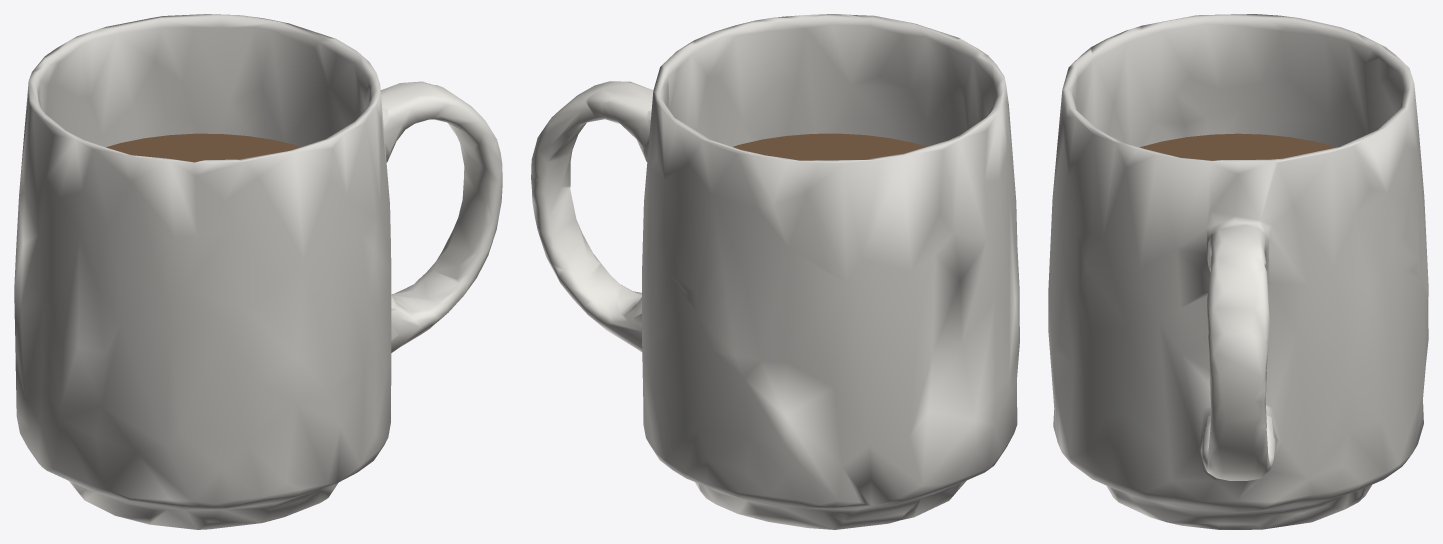
File: mug.glb
3 renders of one model, left to right at view 1: azimuth 30°, elevation 25°; view 2: azimuth 150°, elevation 25°; view 3: azimuth 270°, elevation 25°, orthographic.
Visible parts, largest first — view 1: body, handle, coffee; view 2: body, handle, coffee; view 3: body, handle, coffee.
Boxes of the visible parts, left/top/right/bottom form: body: left=14, top=14, right=398, bottom=529; handle: left=380, top=81, right=502, bottom=352; coffee: left=106, top=133, right=300, bottom=162; body: left=633, top=14, right=1019, bottom=529; handle: left=531, top=81, right=653, bottom=352; coffee: left=733, top=133, right=926, bottom=160; body: left=1048, top=14, right=1428, bottom=529; handle: left=1201, top=224, right=1275, bottom=480; coffee: left=1140, top=133, right=1336, bottom=160.
Size of the model in its own units: 1.9 by 1.54 by 1.38.
